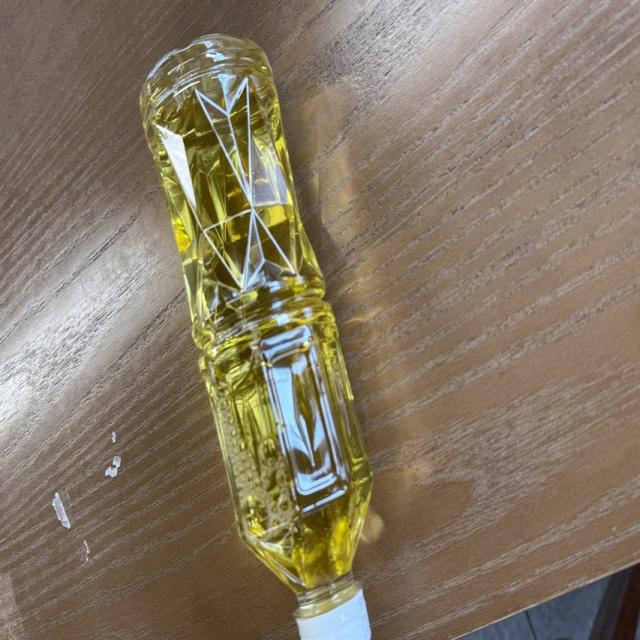high: (140, 34, 371, 639)
